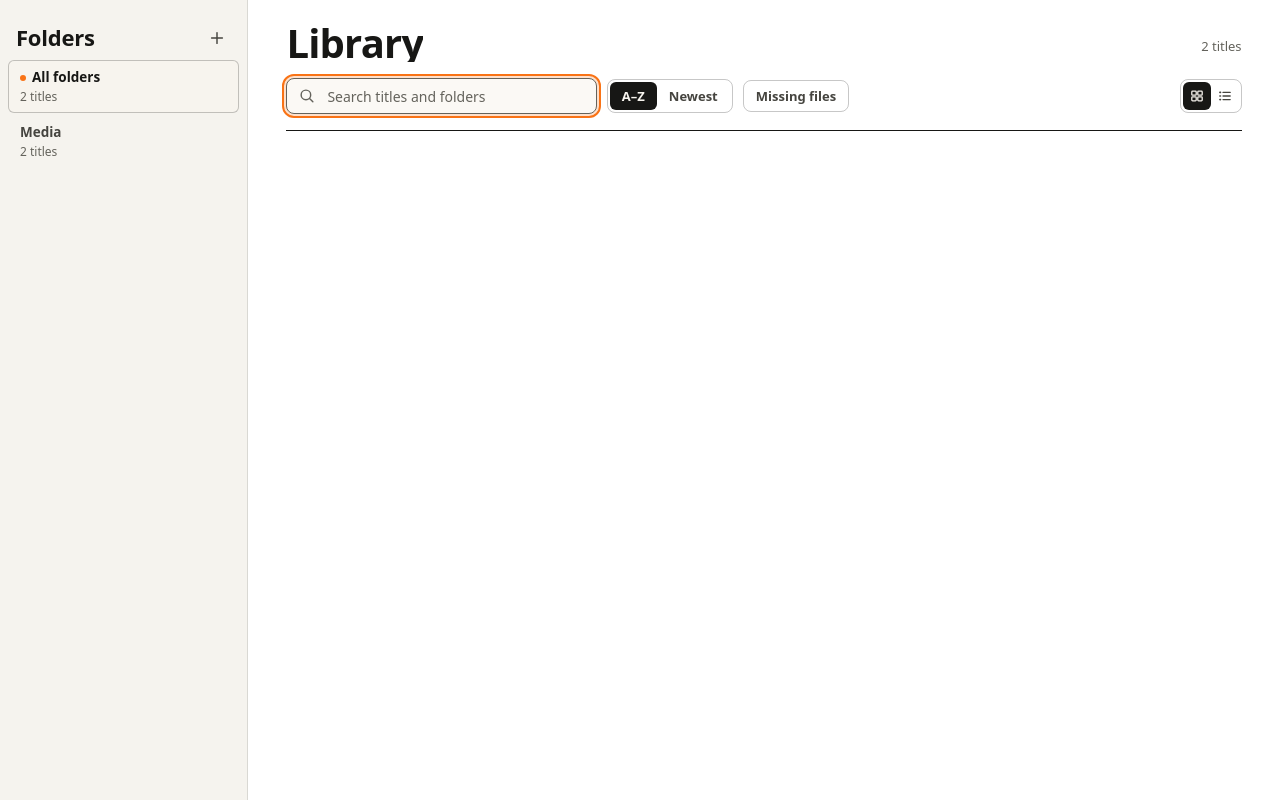
Test: LibraryView › searches with the typed query and shows the title count
Expected: the text "2 titles" in the row of "Library" is shown, left=1201, top=37, right=1242, bottom=55
Type "night" into the search field named "Search library" at (442, 96), box left=286, top=78, right=597, bottom=114
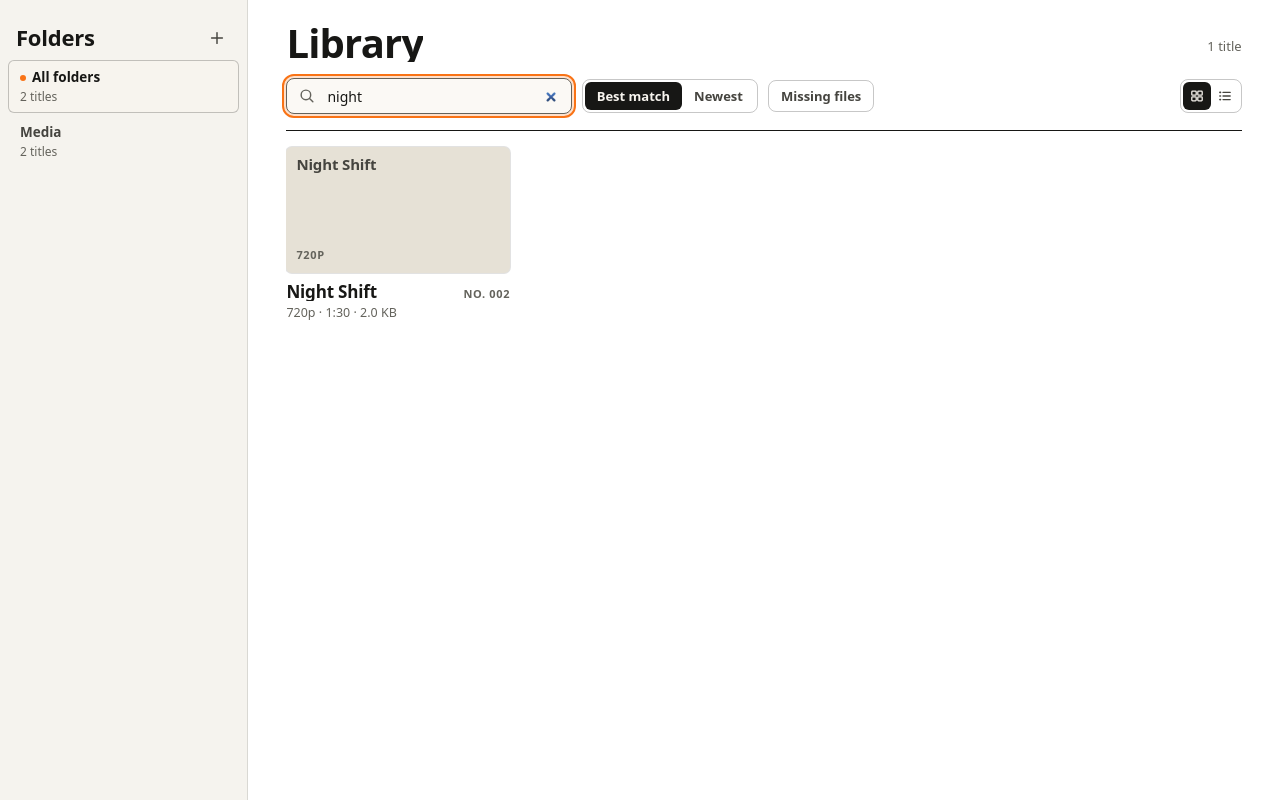
Expected: the text "1 title" is shown, left=1207, top=37, right=1242, bottom=62
